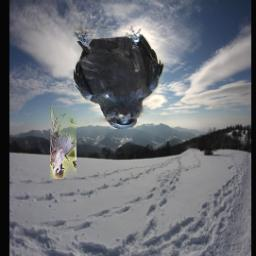Crow: (74, 27, 164, 130)
Sparrow: (50, 105, 77, 179)
